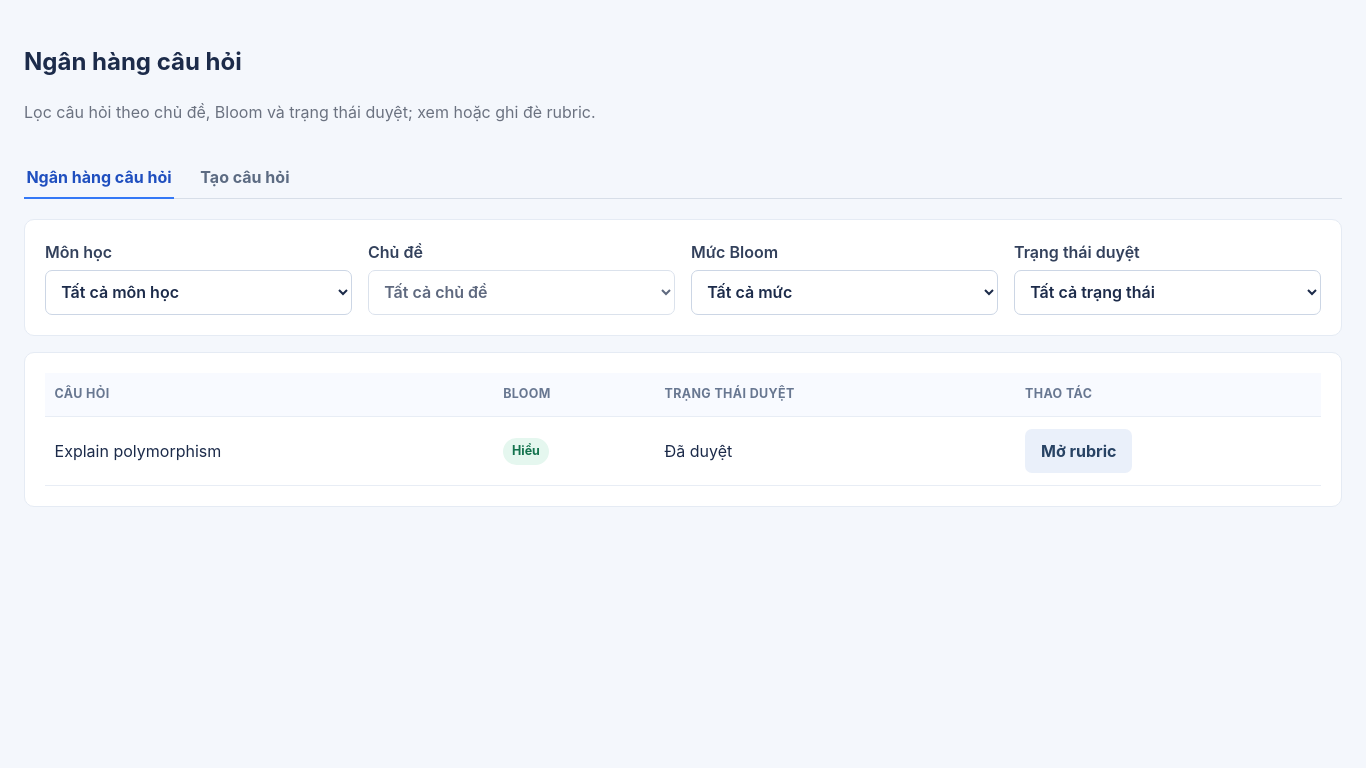
Scenario: QuestionBankManagementPage › passes bloom and approval filters, then renders the source badge and clears override
This screenshot has width=1366, height=768.
Later steps or results of the test are not shown.
Select "Hiểu" in the dropdown labelled "Mức Bloom". click: (844, 292)
box: [691,270,998,315]
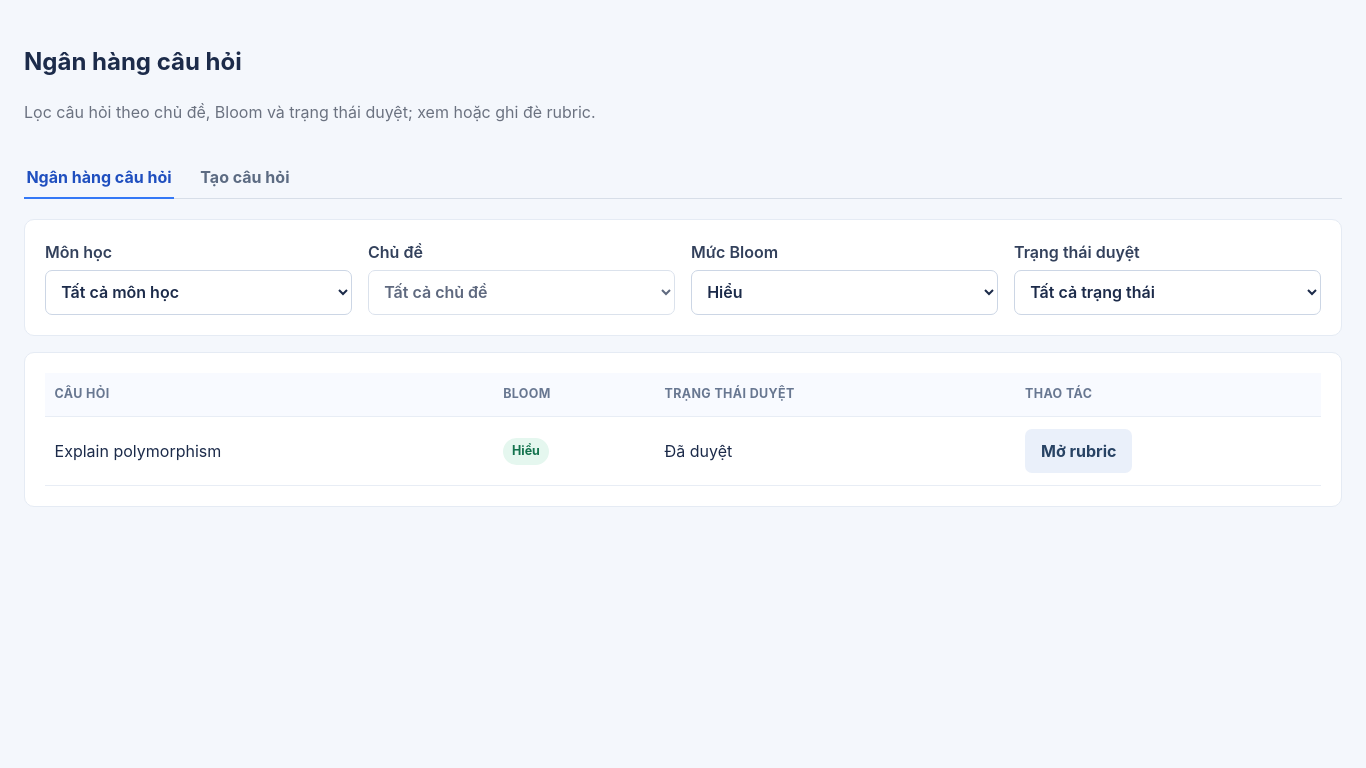
Select "Đã duyệt" in the dropdown labelled "Trạng thái duyệt". click: (1168, 292)
box: [1014,270,1321,315]
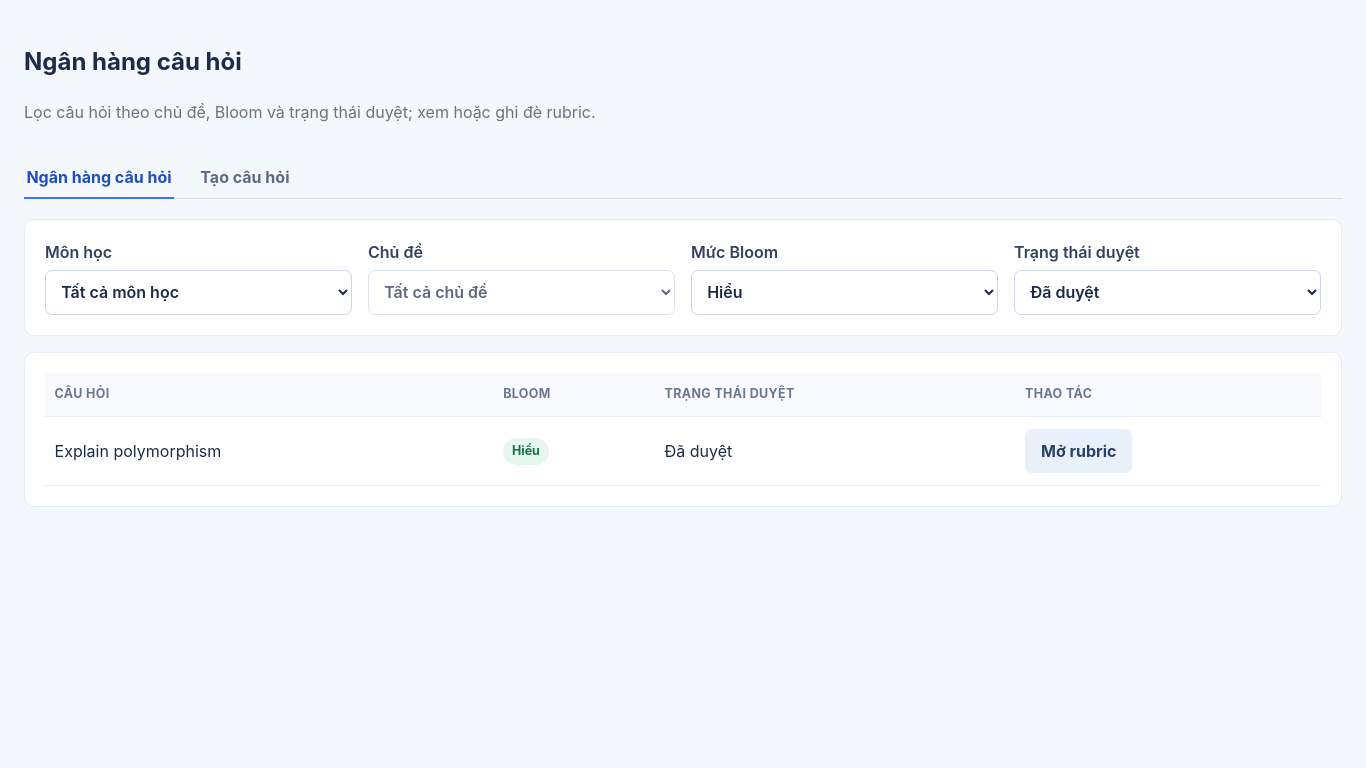
Click the button "Mở rubric". click: (1079, 451)
box: [1025,428,1132,473]
(page scrolled)
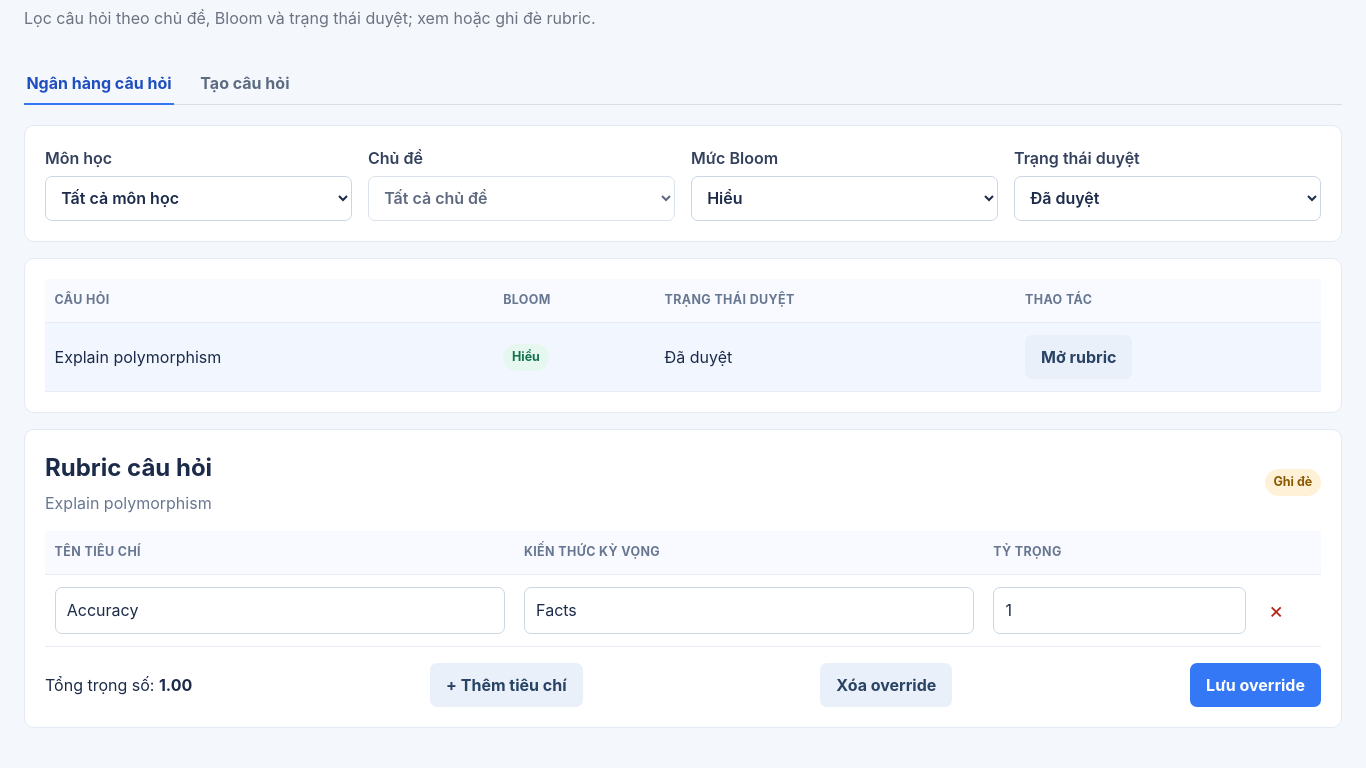
Now the text "Ghi đè" is shown, box [1265,469,1321,496]
